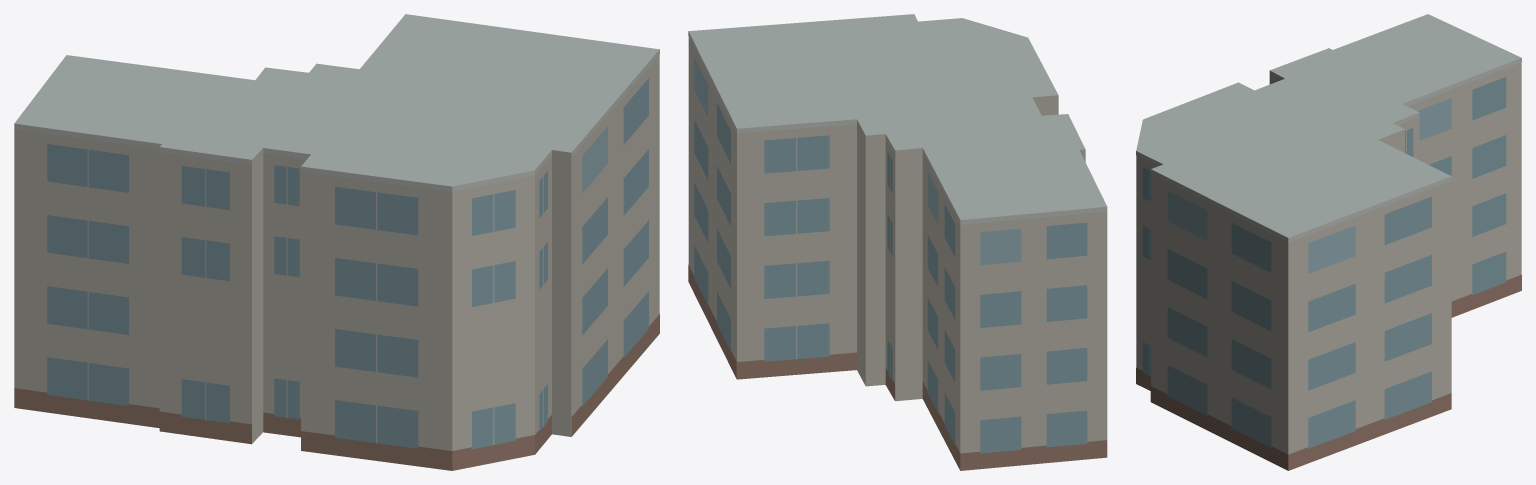
Rendered from survey-upis-32694933.glb.
3 views of the same model, side by side, from view 1: azimuth 30°, elevation 25°; view 2: azimuth 150°, elevation 25°; view 3: azimuth 270°, elevation 25° (orthographic). The views are drawn at different scales.
Visible parts, largest first — view 1: survey-upis-32694933.tmp; view 2: survey-upis-32694933.tmp; view 3: survey-upis-32694933.tmp.
Part boxes in pixels (left/top/right/bottom): survey-upis-32694933.tmp: left=14, top=14, right=659, bottom=470; survey-upis-32694933.tmp: left=688, top=14, right=1107, bottom=470; survey-upis-32694933.tmp: left=1136, top=14, right=1521, bottom=470.
Bounding box in the file's own units: 26.27 × 12.74 × 19.12.
